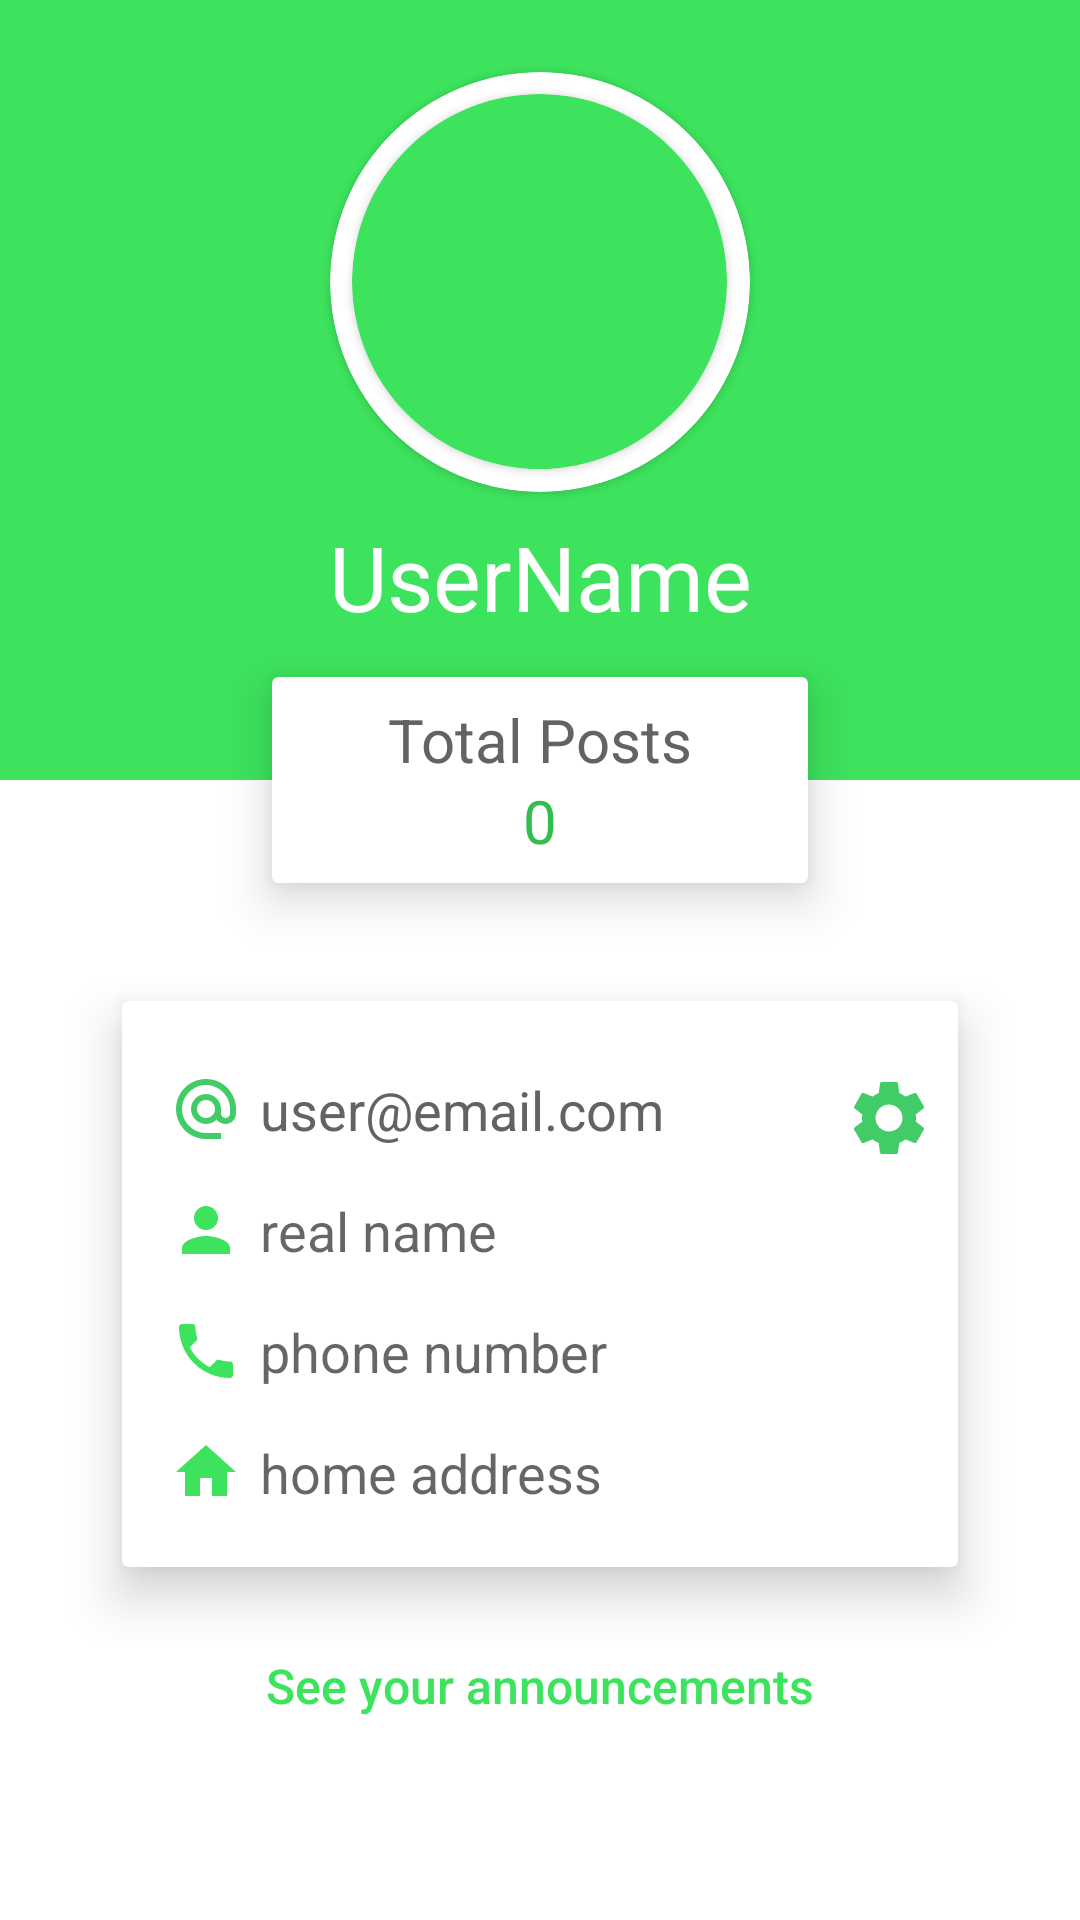

Named icons in this screenshot (1080×1920) and their bounding boxes, (x1, y1, x2, y2):
settings: (854, 1082, 924, 1154)
